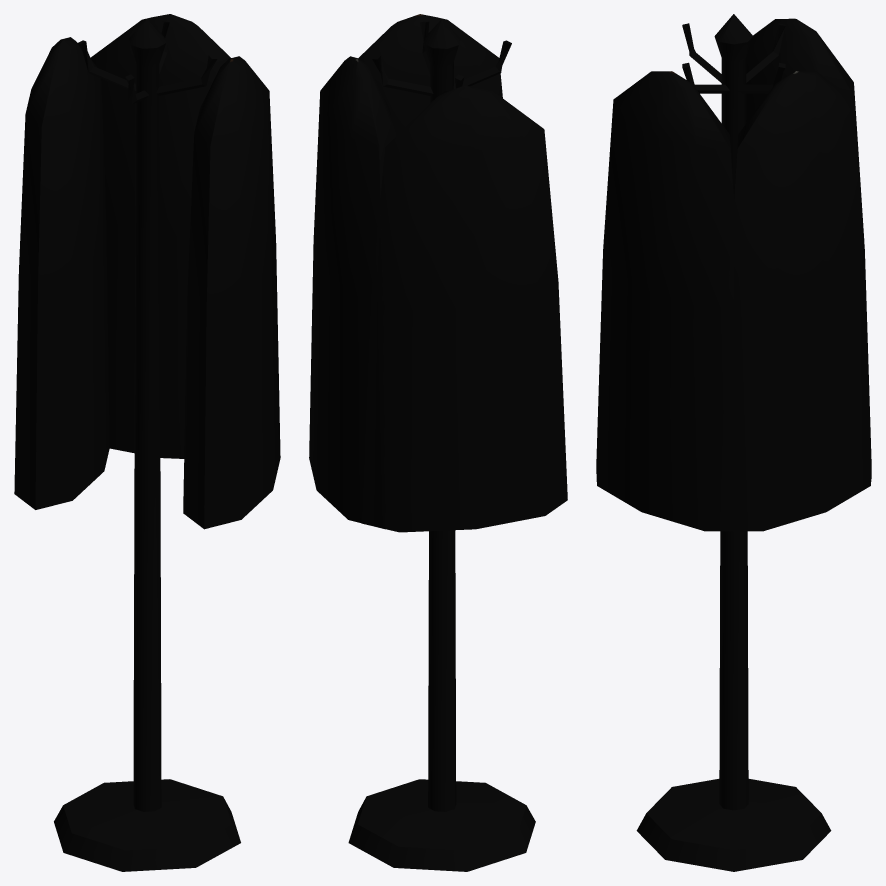
File: SM_coat_rack_coats.fbx
3 renders of one model, left to right at view 1: azimuth 30°, elevation 25°; view 2: azimuth 150°, elevation 25°; view 3: azimuth 270°, elevation 25°, orthographic.
Visible parts, largest first — view 1: coat_rack_coats; view 2: coat_rack_coats; view 3: coat_rack_coats.
Part boxes in pixels (x1,y1,x2,y2): coat_rack_coats: [14, 14, 280, 871]; coat_rack_coats: [309, 14, 567, 871]; coat_rack_coats: [596, 14, 871, 871].
Size of the model in its own units: 0.5657 by 1.85 by 0.5657.
